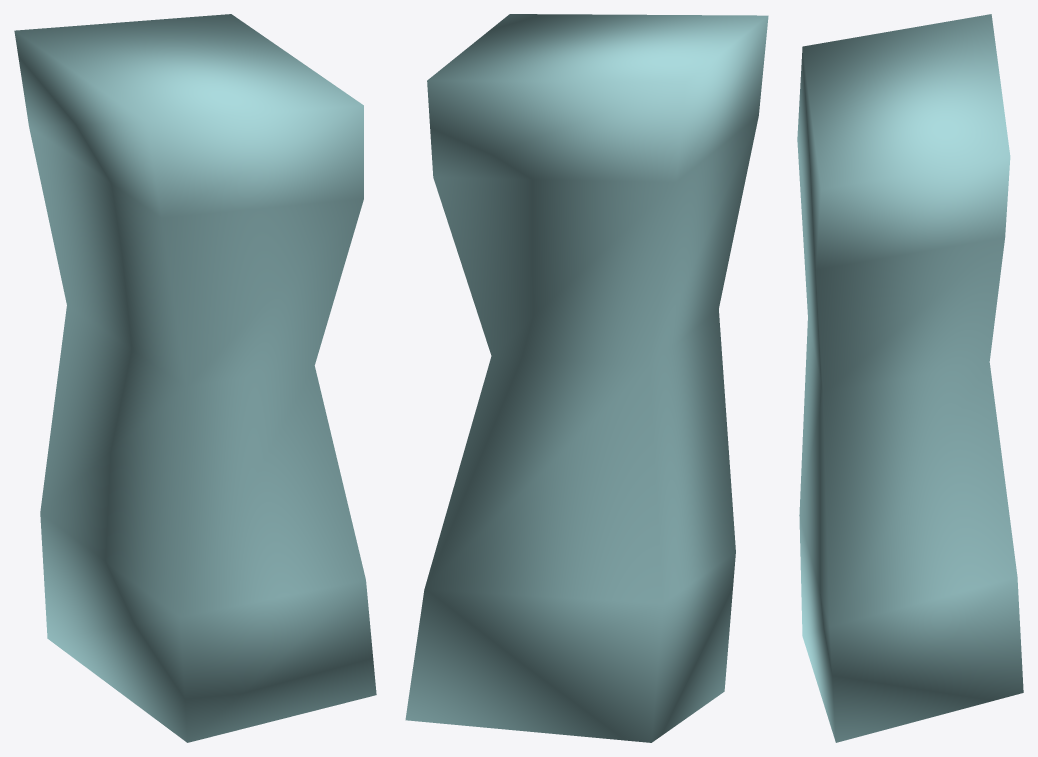
File: Skelly_thumb.02.L.fbx
3 renders of one model, left to right at view 1: azimuth 30°, elevation 25°; view 2: azimuth 150°, elevation 25°; view 3: azimuth 270°, elevation 25°, orthographic. The views are drawn at different scales.
Visible parts, largest first — view 1: Skelly_thumb.02.L; view 2: Skelly_thumb.02.L; view 3: Skelly_thumb.02.L.
Part boxes in pixels (x1,y1,x2,y2): Skelly_thumb.02.L: (14,14,376,742); Skelly_thumb.02.L: (405,14,768,742); Skelly_thumb.02.L: (797,14,1023,742).
Bounding box in the file's own units: 1.52 × 3.5 × 1.18.
